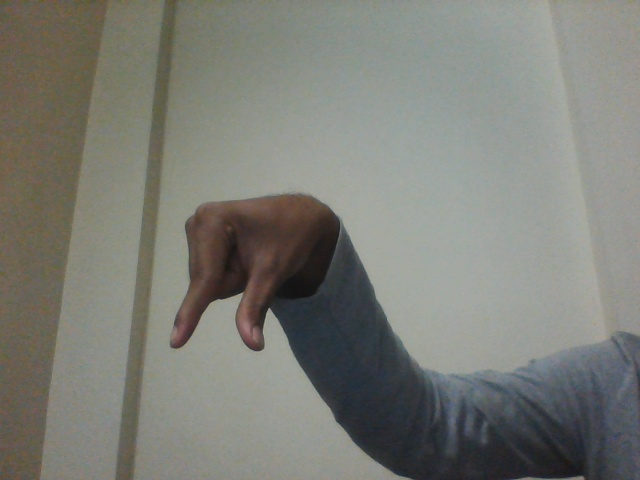q: (156, 187, 325, 369)
